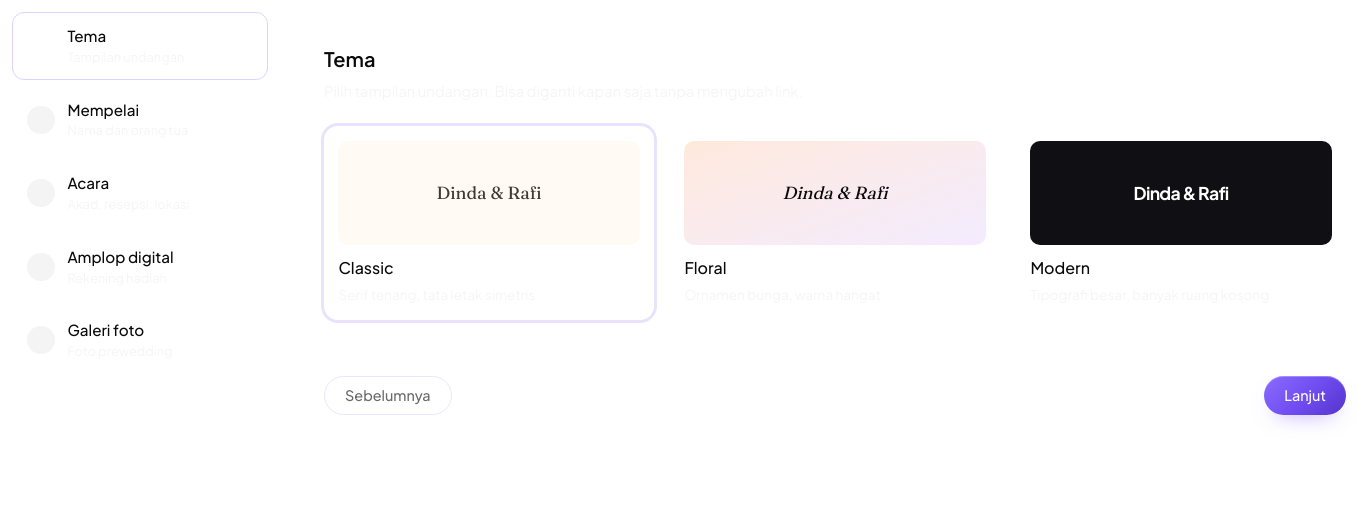
BuilderWizard › jumps directly to a step via the nav and shows a checkmark for completed steps
Click the button "3 Acara Akad, resepsi, lokasi" at (140, 193), box [12, 159, 268, 227]
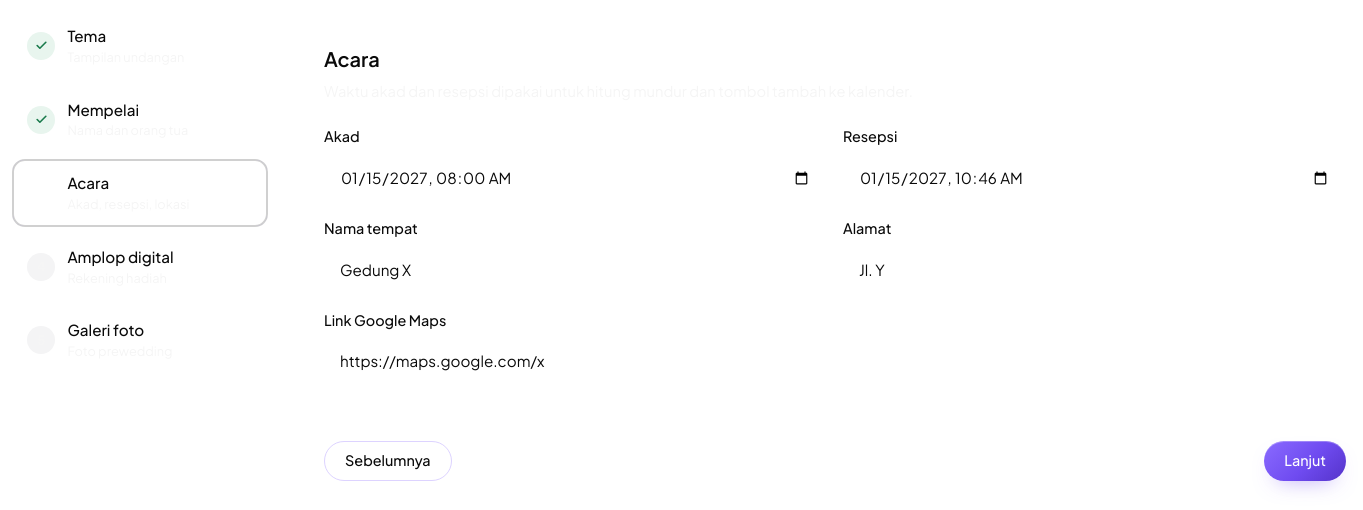
Expected: the heading "Acara" is shown, [324, 46, 380, 71]
Expected: the 1st icon is shown, [35, 40, 48, 52]
